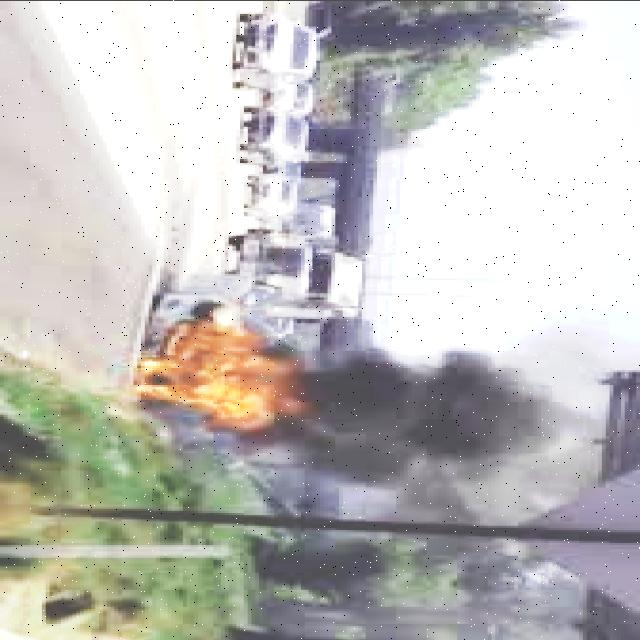api: (135, 319, 314, 441)
